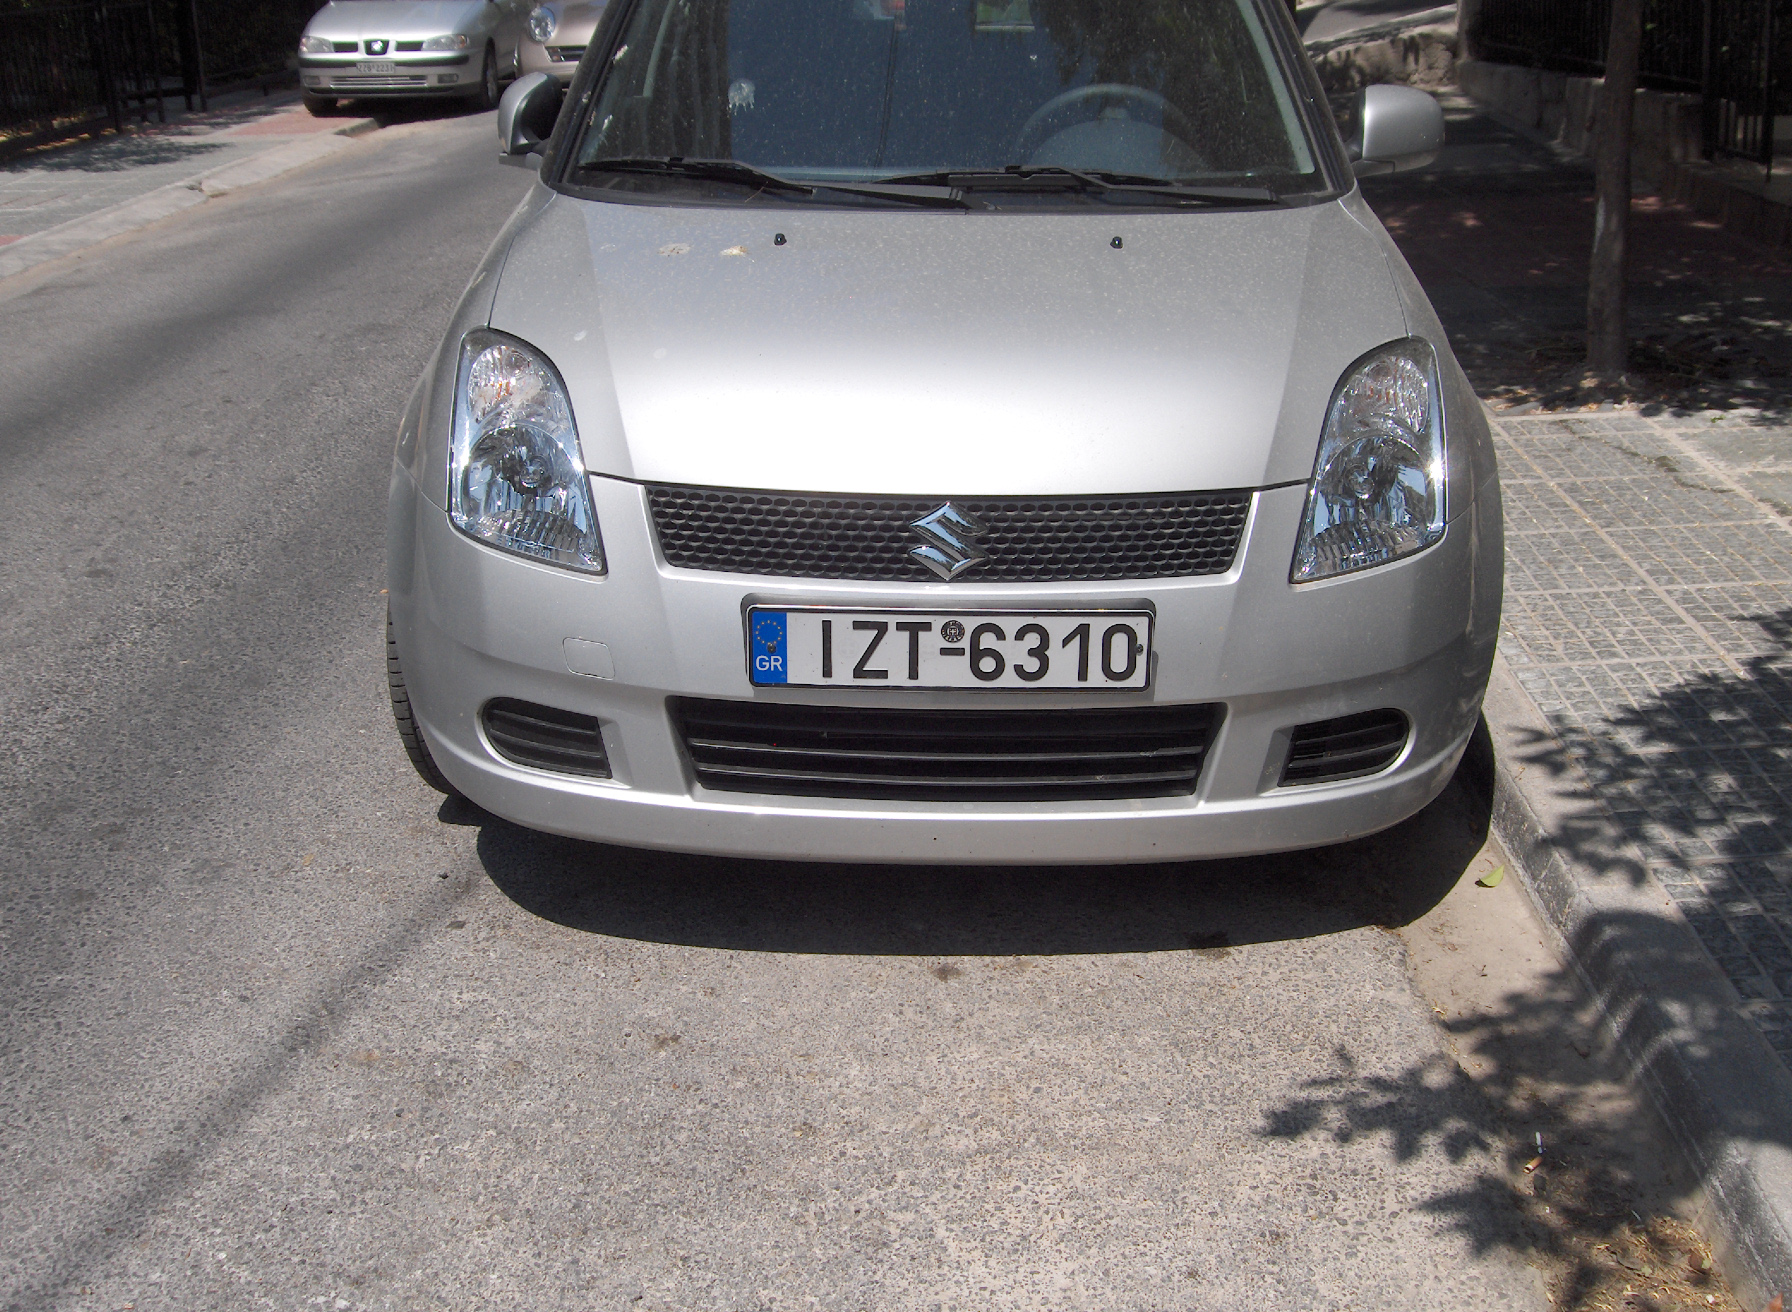licenseplate: (747, 606, 1154, 694)
